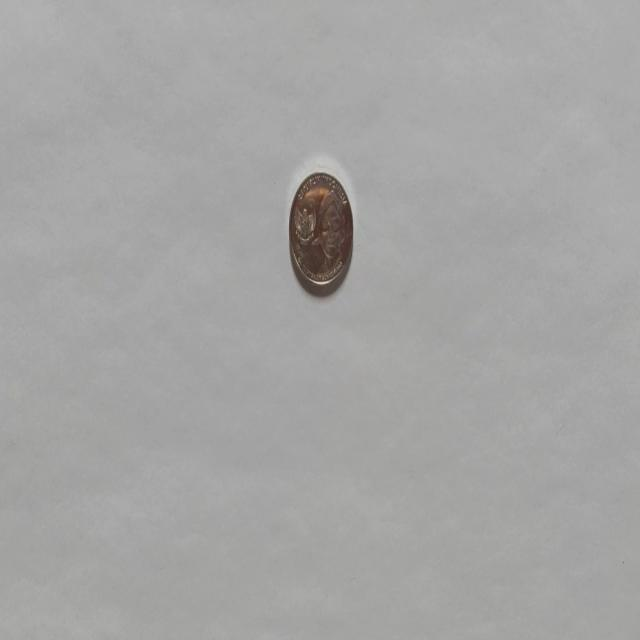dua ratus rupiah: (287, 169, 353, 295)
